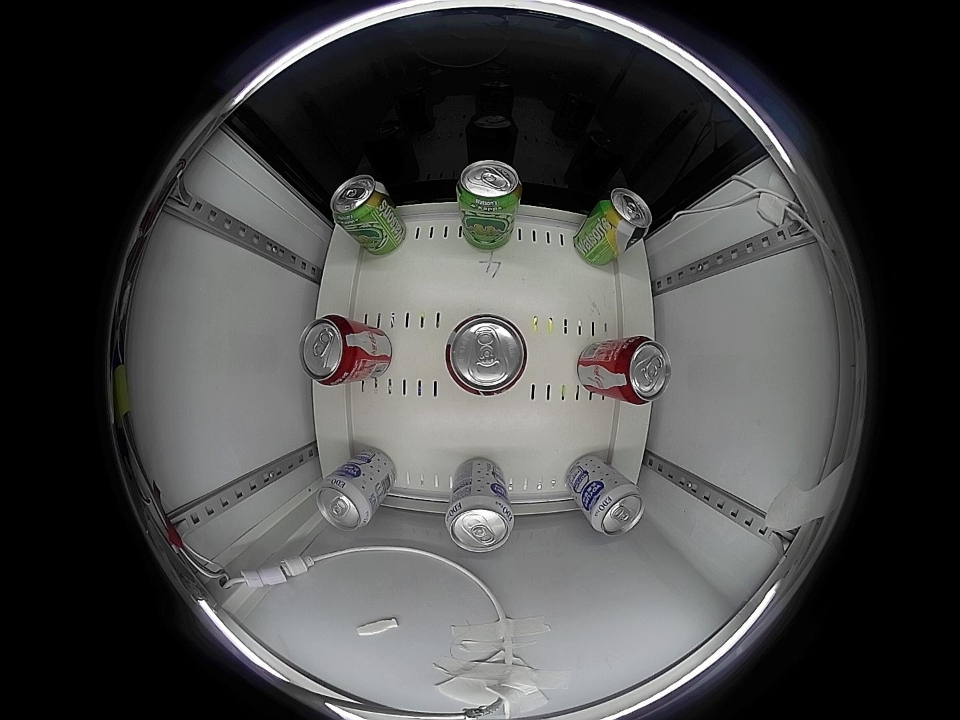kele: (444, 313, 530, 397), (299, 314, 359, 386), (612, 337, 672, 405)
quchenshixiangcao: (456, 160, 523, 213), (331, 175, 387, 228), (599, 189, 652, 240)
rusuanjunqishui: (445, 491, 514, 553), (315, 473, 376, 531), (587, 480, 645, 536)
